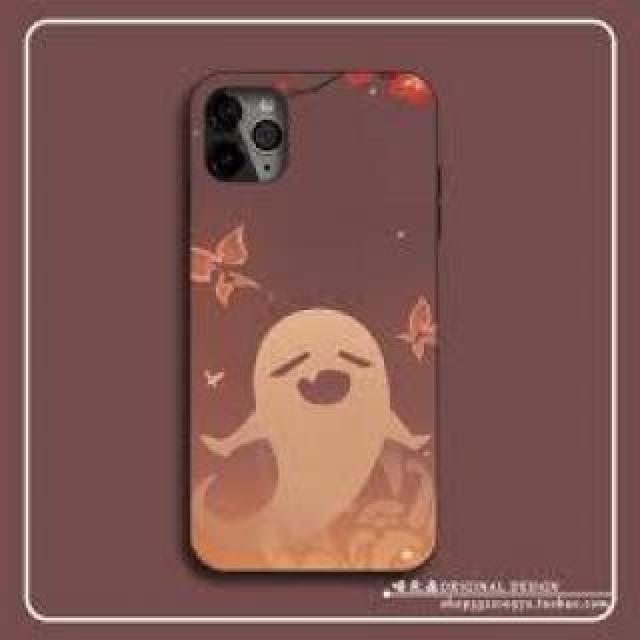smart phone: (174, 45, 454, 572)
